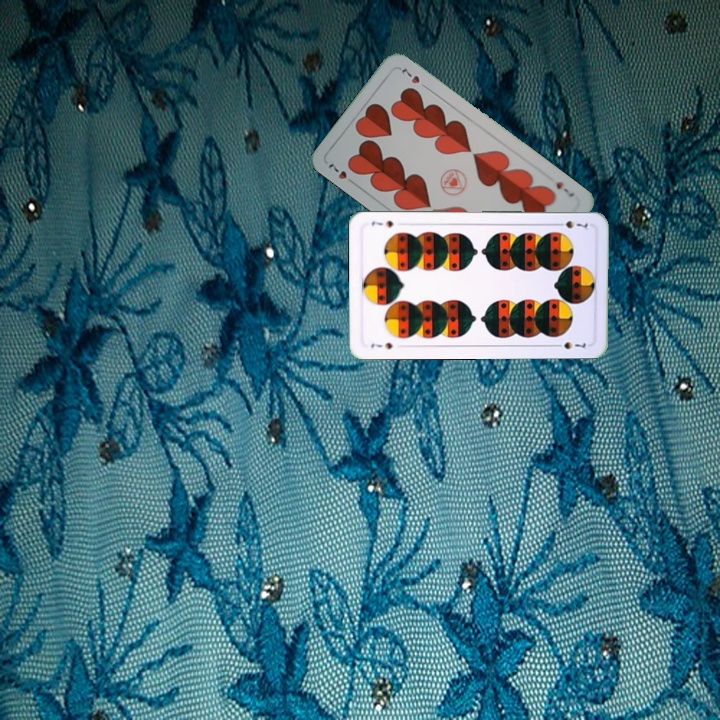H7: (324, 159, 358, 188), (552, 178, 577, 200)
S7: (552, 217, 590, 232), (367, 338, 395, 351)
